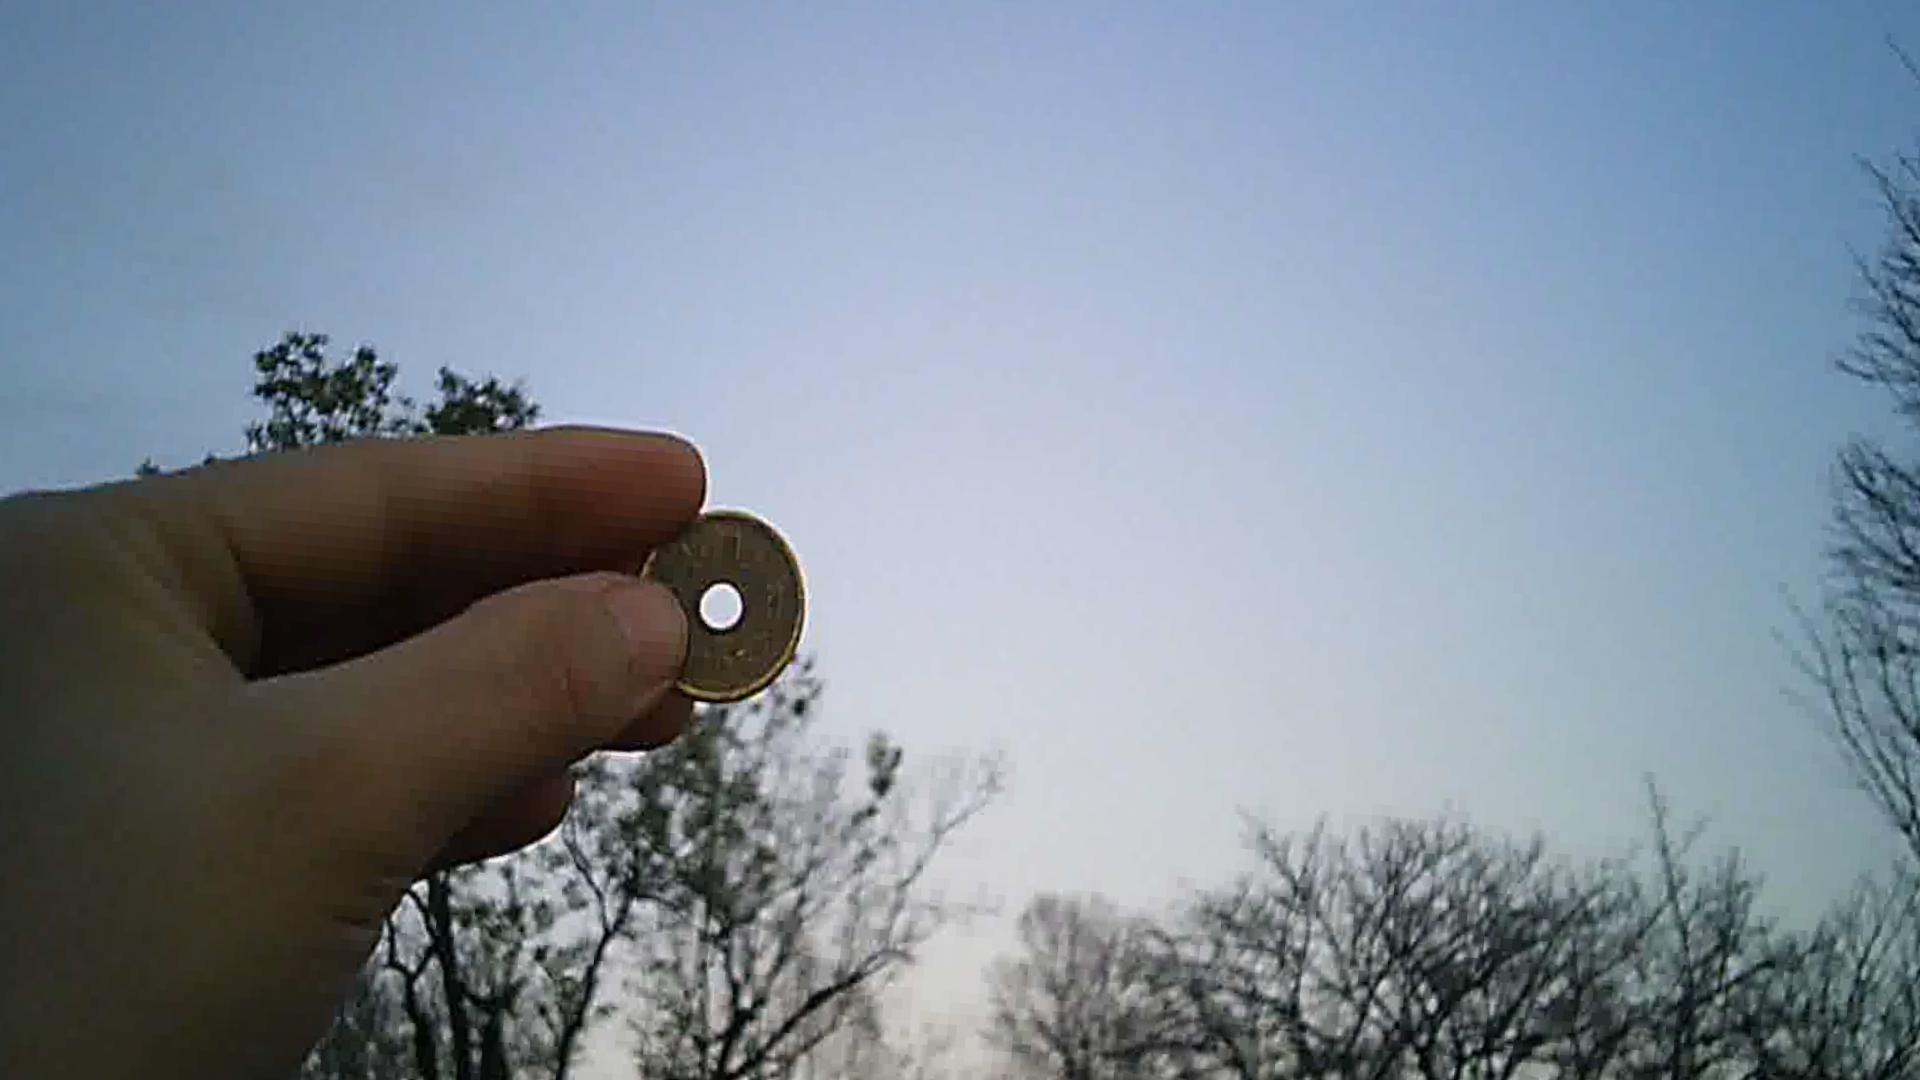5 Yen: (632, 501, 819, 720)
